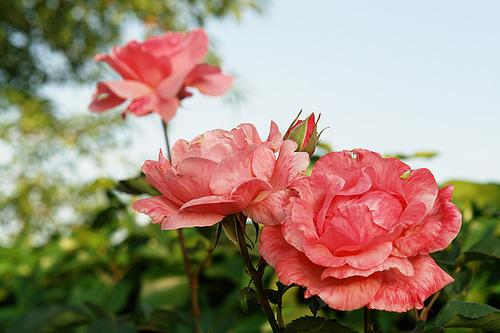Rose: (257, 137, 469, 328), (128, 131, 315, 225), (94, 23, 235, 116)
